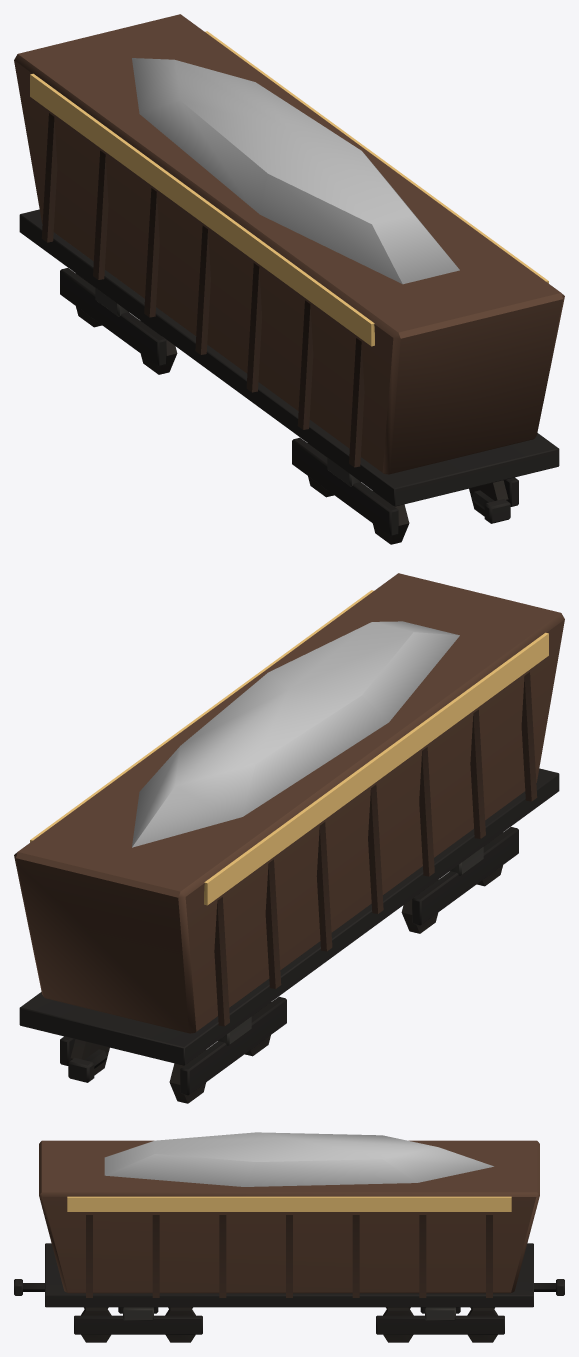
File: train_wagon.glb
3 renders of one model, top to bottom at view 1: azimuth 30°, elevation 25°; view 2: azimuth 150°, elevation 25°; view 3: azimuth 270°, elevation 25°, orthographic. The views are drawn at different scales.
Parts seen in each view (by area): view 1: Wagon, Cargo; view 2: Wagon, Cargo; view 3: Wagon, Cargo.
Part boxes in pixels (bbox=[...]): Wagon: bbox=[14, 14, 564, 544]; Cargo: bbox=[132, 58, 459, 284]; Wagon: bbox=[14, 573, 564, 1103]; Cargo: bbox=[132, 621, 459, 847]; Wagon: bbox=[14, 1140, 564, 1342]; Cargo: bbox=[104, 1132, 493, 1186].
Size of the model in its own units: 0.6803 by 1.02 by 2.73.
